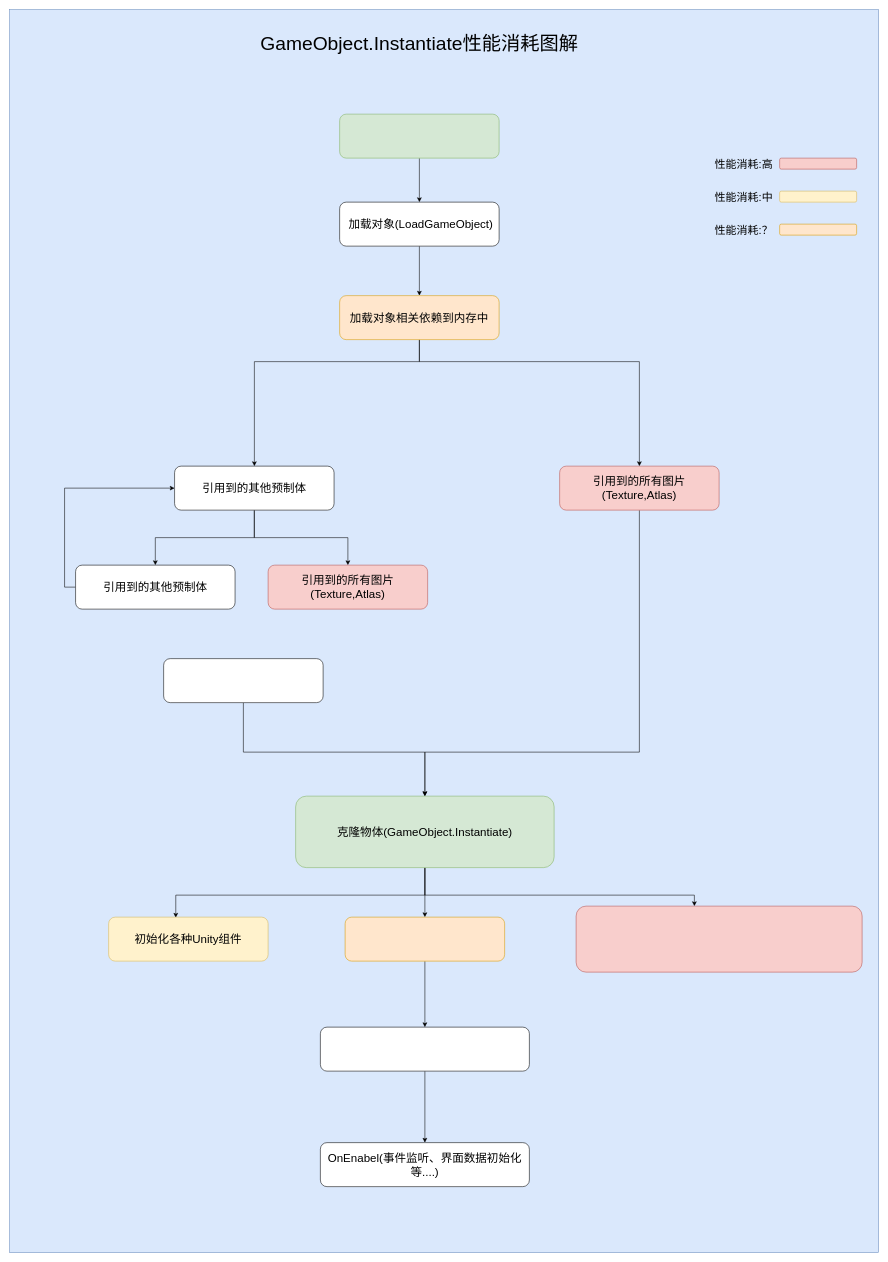
Some shapes in this 888 by 1262 pixel diagram are drawn without their labels. The centre of each missing label's shape, as x and y in pixels:
"CPU计算网格数据，顶点信息，交予GPU绘制画面" goes at pixel 719 939.
"OAwake(Find组件、界面初始化、滚动列表....)" goes at pixel 424 1049.
"初始化脚本声明周期" goes at pixel 425 939.
"第一次弹出弹窗" goes at pixel 419 136.
"预制体相互引用加载完毕" goes at pixel 243 680.
